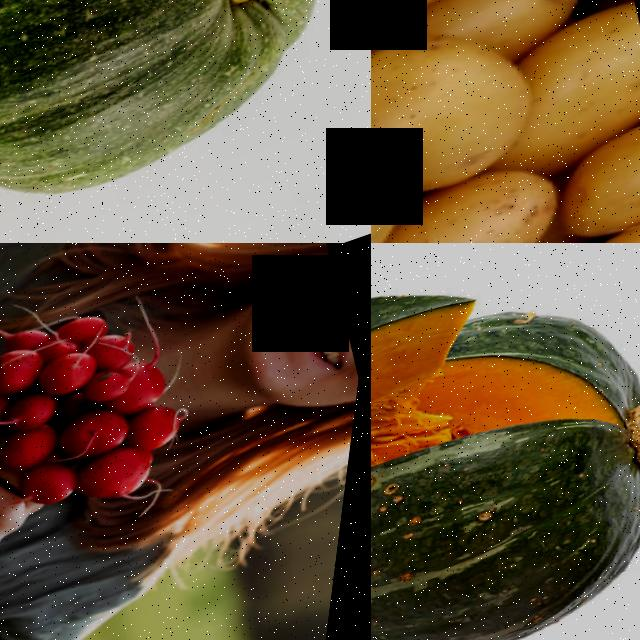potato: (371, 0, 566, 215), (381, 152, 593, 243), (547, 114, 640, 243)
pumpkin: (0, 0, 371, 243), (371, 341, 640, 640), (371, 252, 526, 501)
radishes: (0, 289, 222, 533)
